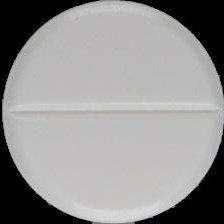63739-543: (0, 0, 224, 224)
